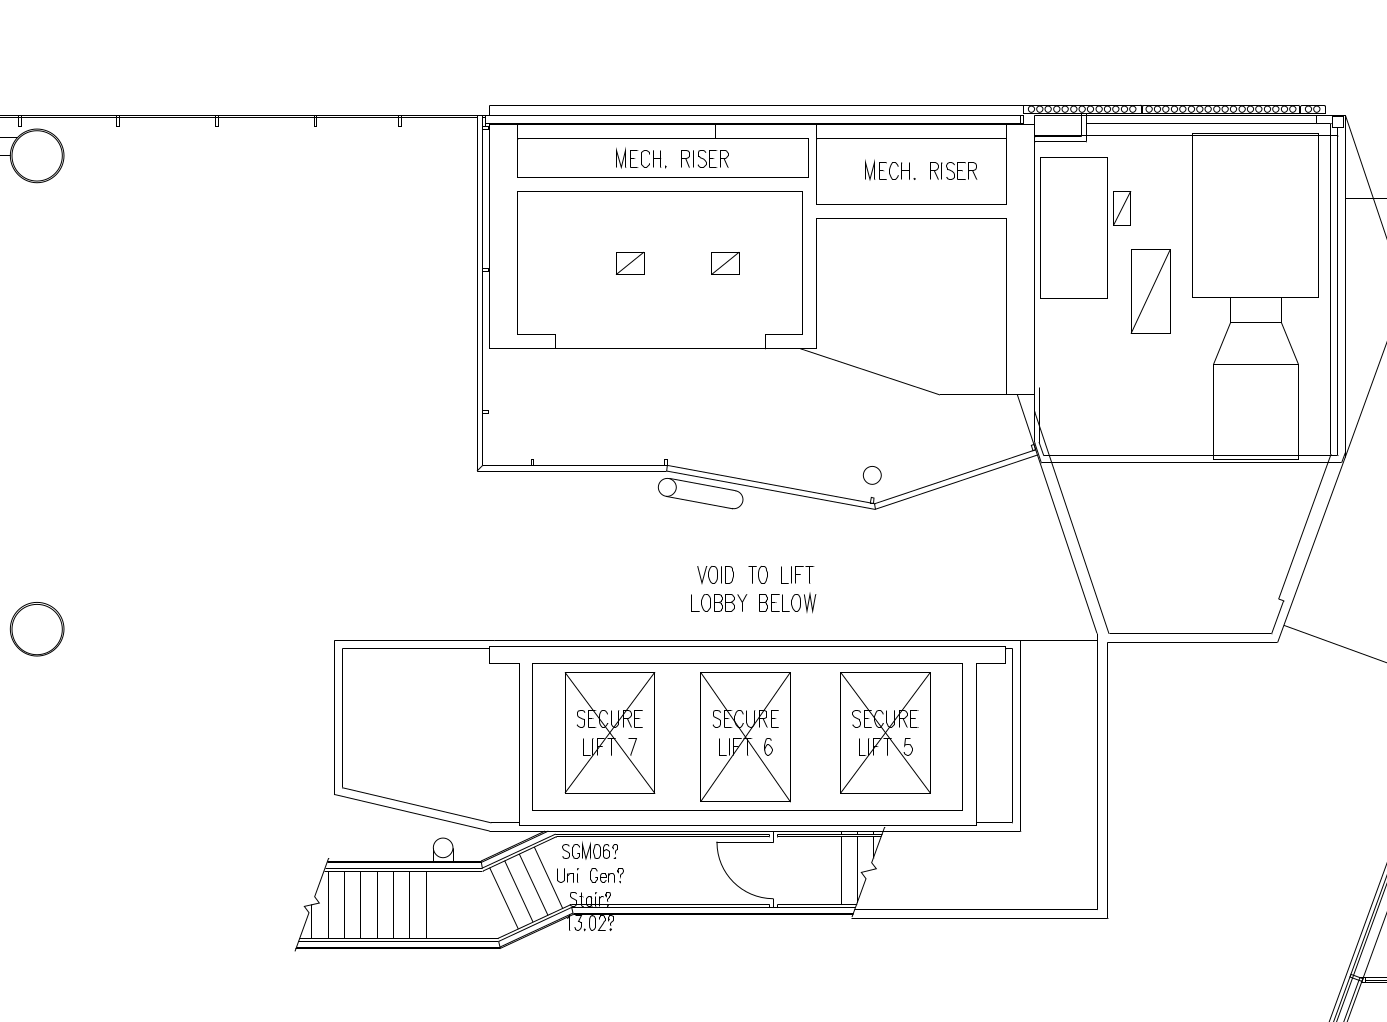door: (713, 839, 777, 900)
